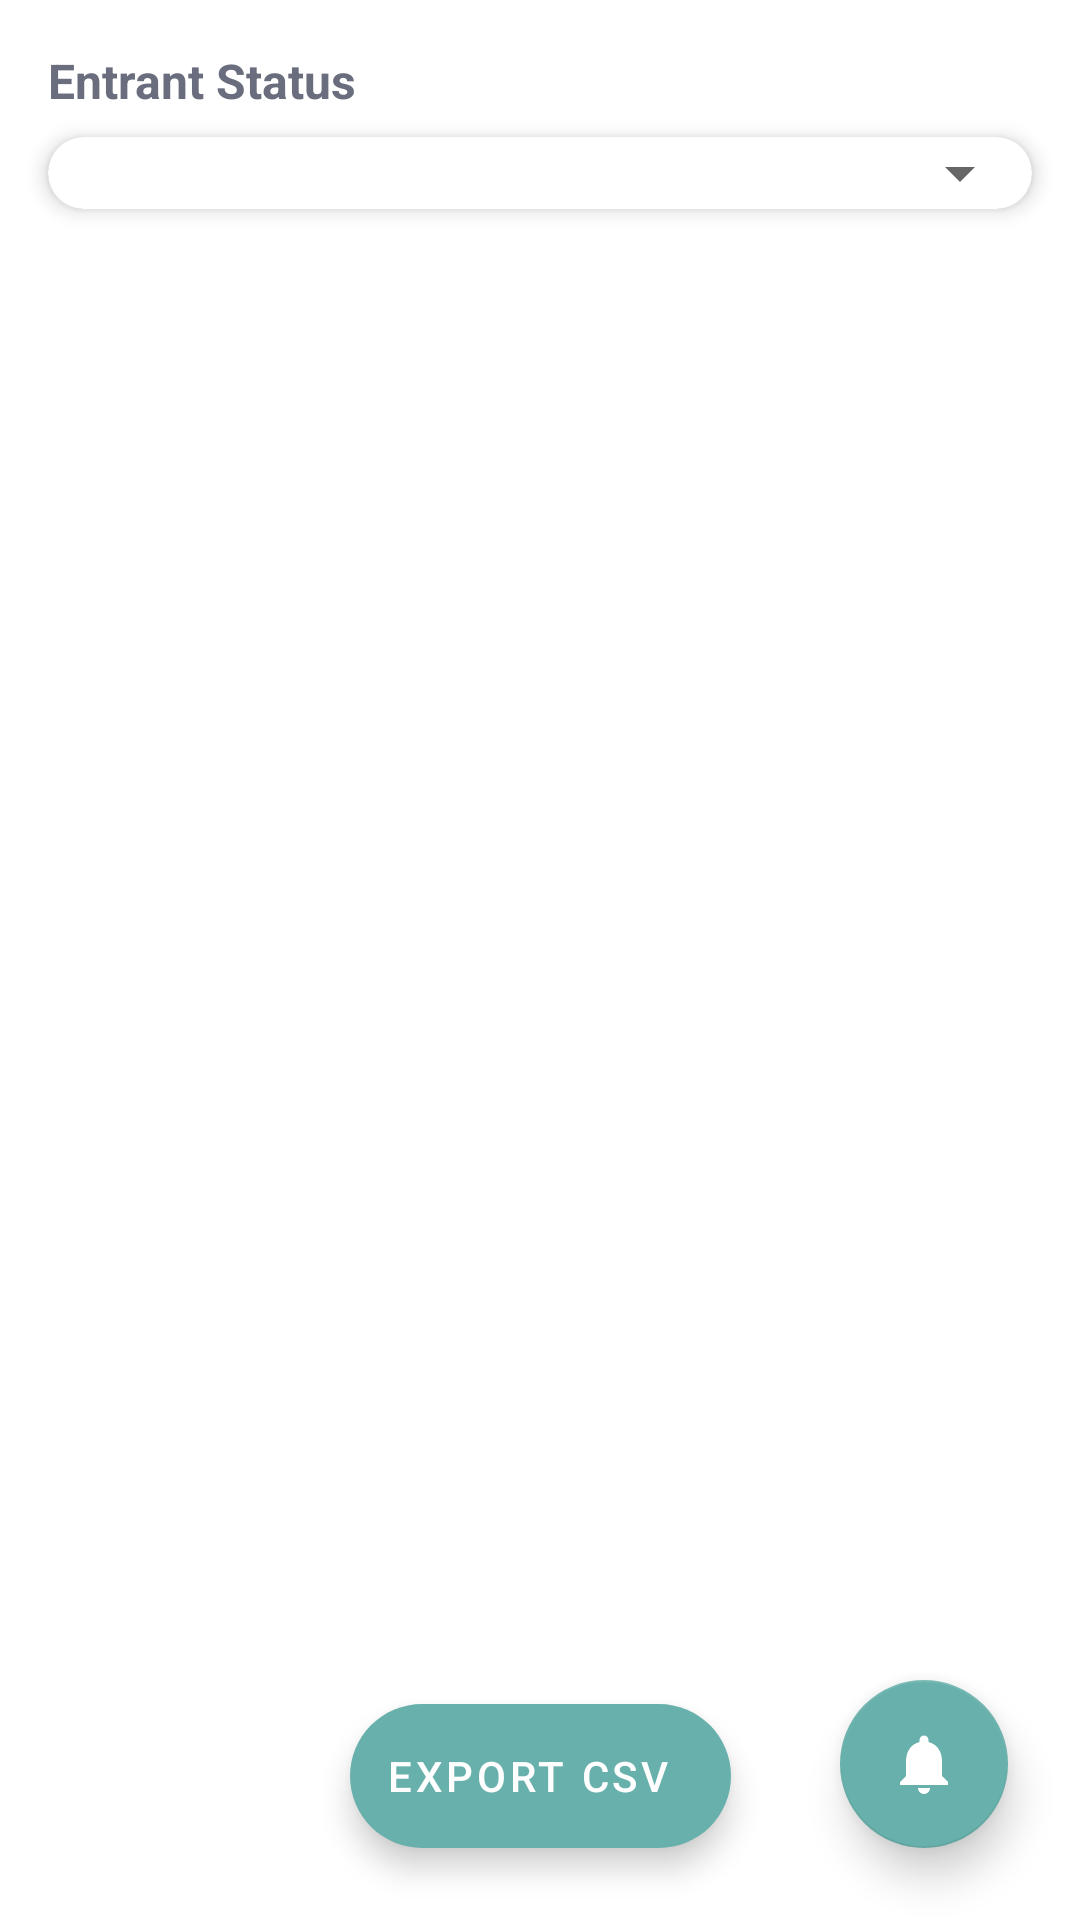

Icon bounding boxes for this 1080 x 1920 phone screenshot, format (x1, y1, x2, y2):
notifications: (840, 1680, 1008, 1848)
